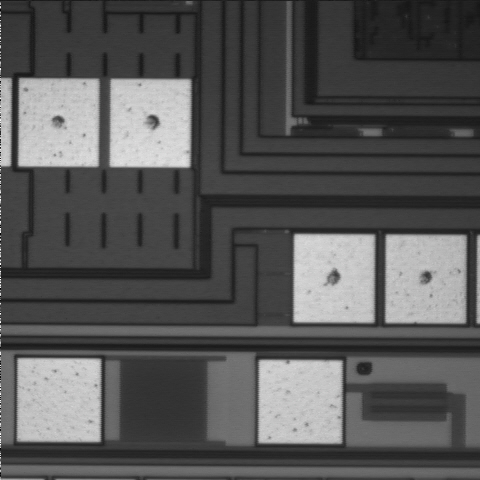pad: (110, 80, 190, 167), (294, 235, 374, 322), (19, 79, 98, 166), (259, 360, 341, 443), (386, 236, 465, 322), (18, 359, 100, 441)
